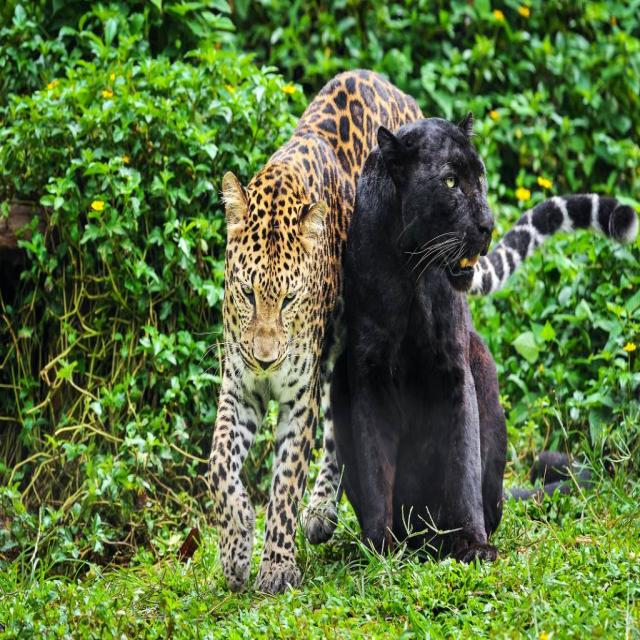Jaguar: (192, 47, 640, 601), (336, 122, 516, 568)
